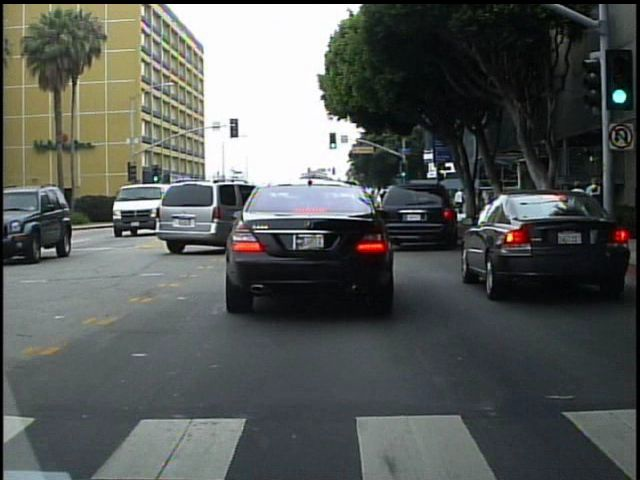person: (583, 173, 602, 232), (455, 185, 465, 216)
